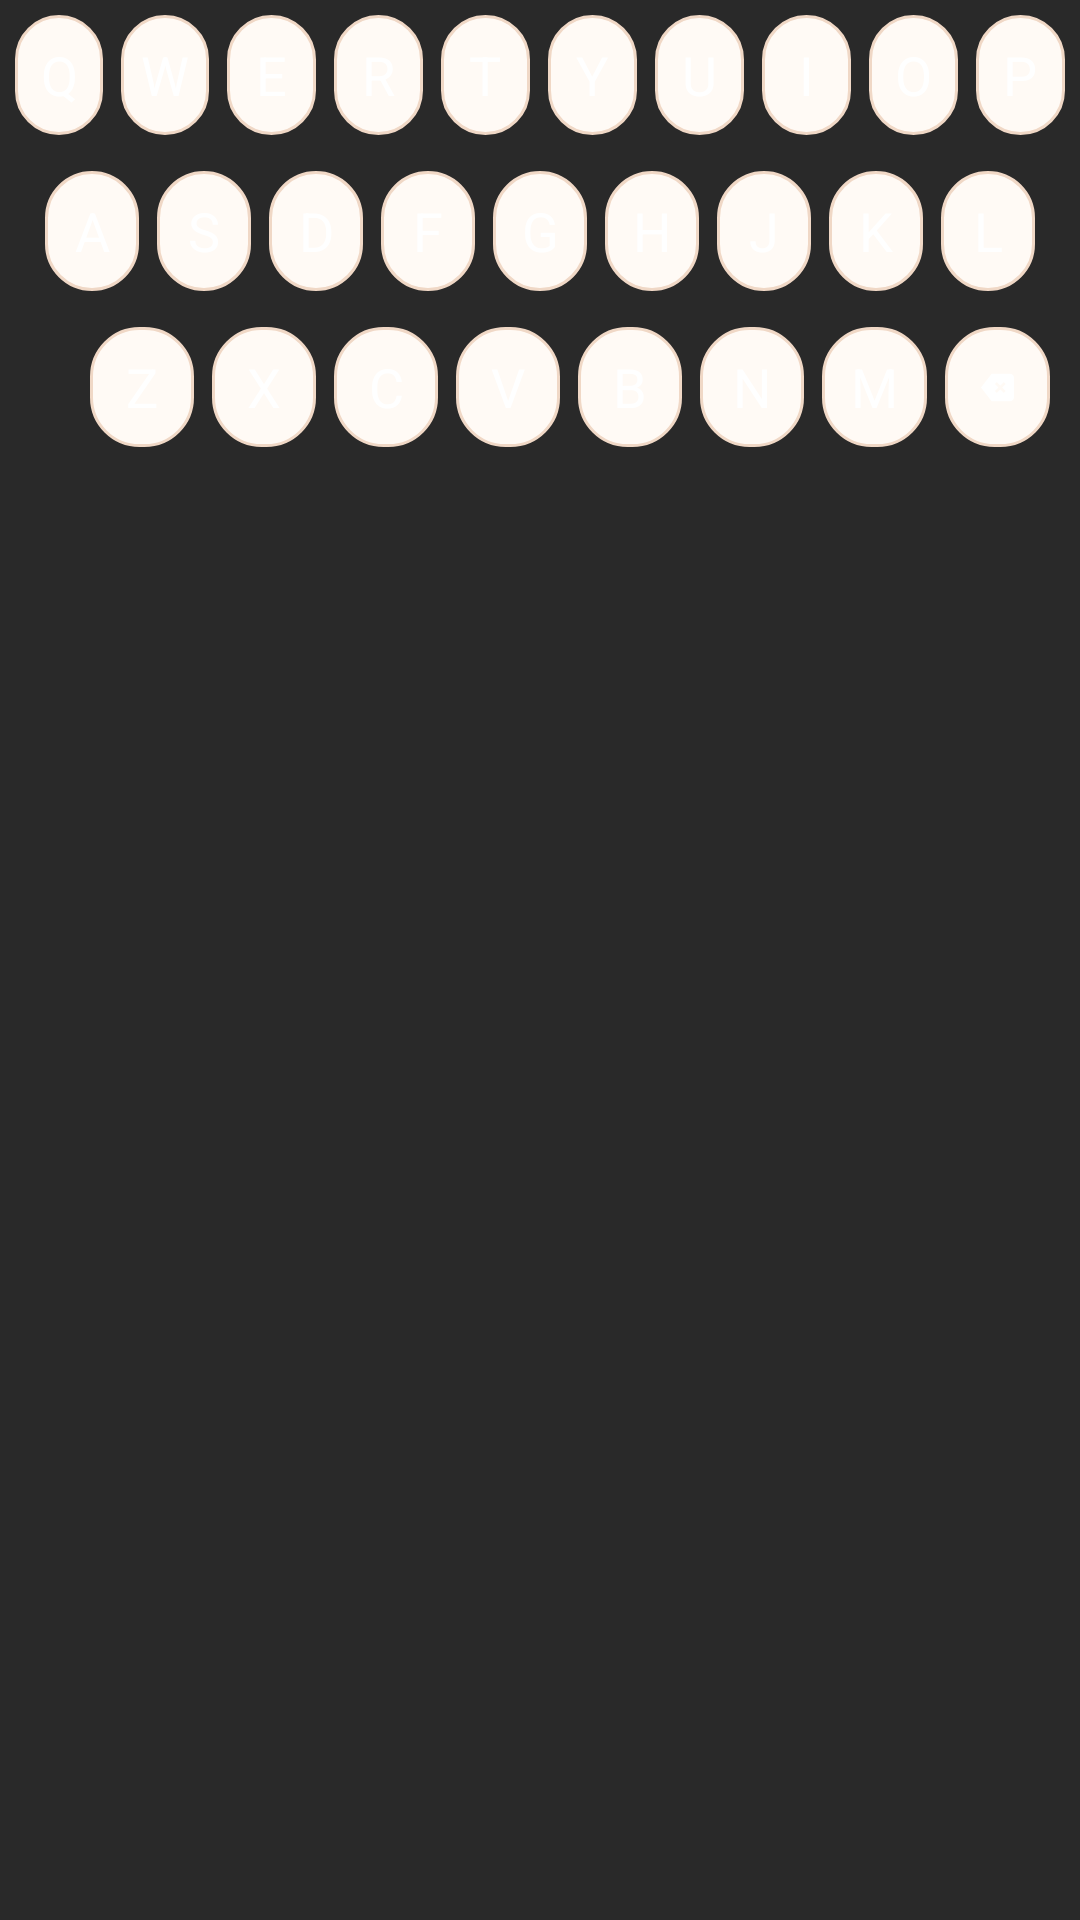

Locate icon controls on the screen. Image size 1080px×1920px, boxes as (x1=x1, y1=y1, x2=x2, y2=y2).
delete: (x1=945, y1=327, x2=1050, y2=447)
